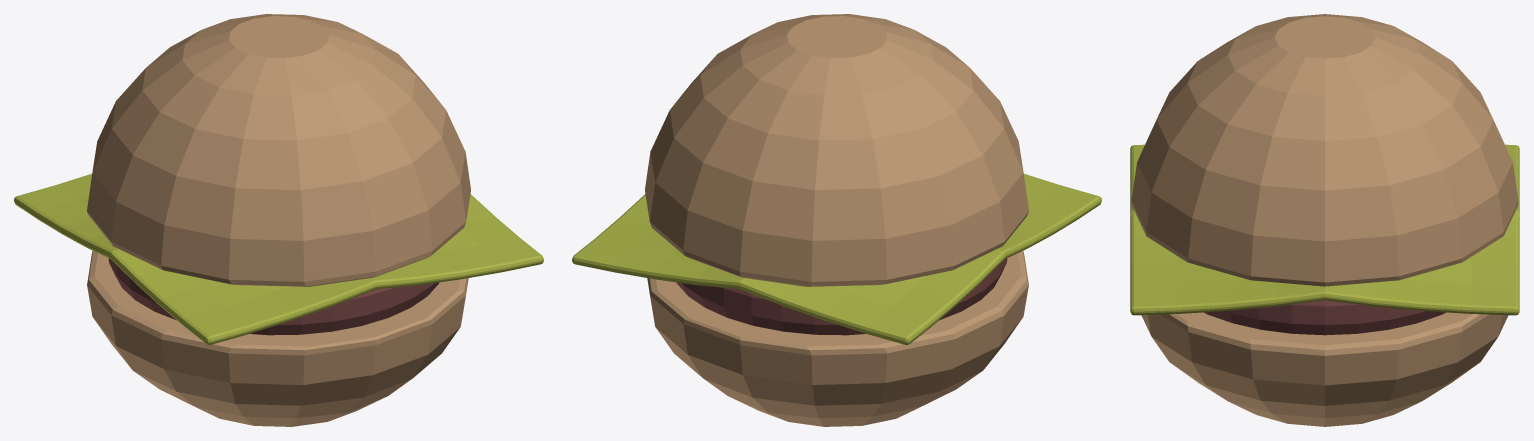
Rendered from food.fbx.
3 renders of one model, left to right at view 1: azimuth 30°, elevation 25°; view 2: azimuth 150°, elevation 25°; view 3: azimuth 270°, elevation 25°, orthographic.
Visible parts, largest first — view 1: bread_bottom.001; view 2: bread_bottom.001; view 3: bread_bottom.001.
Boxes of the visible parts, bbox=[...] form: bread_bottom.001: bbox=[14, 14, 543, 426]; bread_bottom.001: bbox=[572, 14, 1101, 426]; bread_bottom.001: bbox=[1130, 14, 1519, 426].
Bounding box in the file's own units: 200 × 208 × 200.
